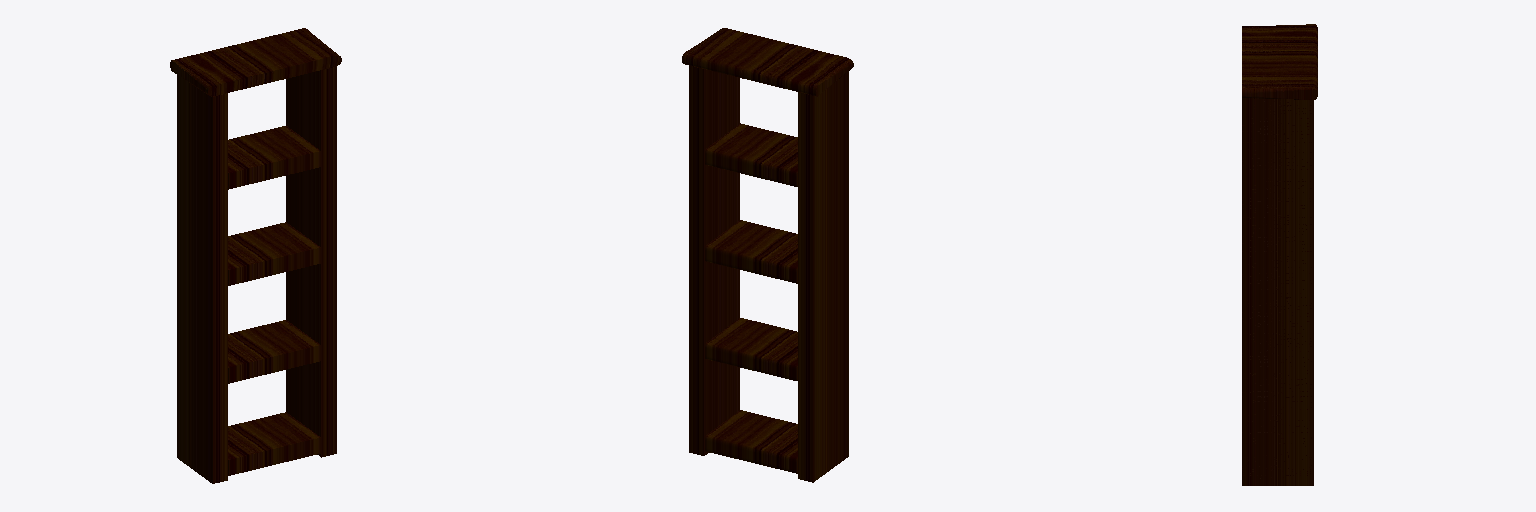
The picture shows the model from 3 angles: view 1: azimuth 30°, elevation 25°; view 2: azimuth 150°, elevation 25°; view 3: azimuth 270°, elevation 25°; orthographic projection.
Parts seen in each view (by area): view 1: Box001, Box002, Box003, Box014, Box013, Box005, Box015; view 2: Box001, Box002, Box003, Box014, Box013, Box015, Box005; view 3: Box002, Box003.
Boxes of the visible parts, x1,y1,x2,y2 form: Box001: [177, 75, 227, 483]; Box002: [286, 66, 336, 457]; Box003: [170, 28, 341, 96]; Box014: [228, 222, 320, 285]; Box013: [228, 412, 320, 475]; Box005: [228, 320, 320, 383]; Box015: [228, 126, 320, 189]; Box001: [798, 71, 848, 482]; Box002: [689, 66, 739, 455]; Box003: [682, 28, 853, 96]; Box014: [705, 220, 797, 283]; Box013: [705, 410, 797, 473]; Box015: [705, 123, 797, 186]; Box005: [705, 318, 797, 380]; Box002: [1242, 98, 1313, 485]; Box003: [1242, 24, 1317, 99].
Size of the model in its own units: 43.38 by 124 by 21.21.
Materials: 1 (1 with a texture image).